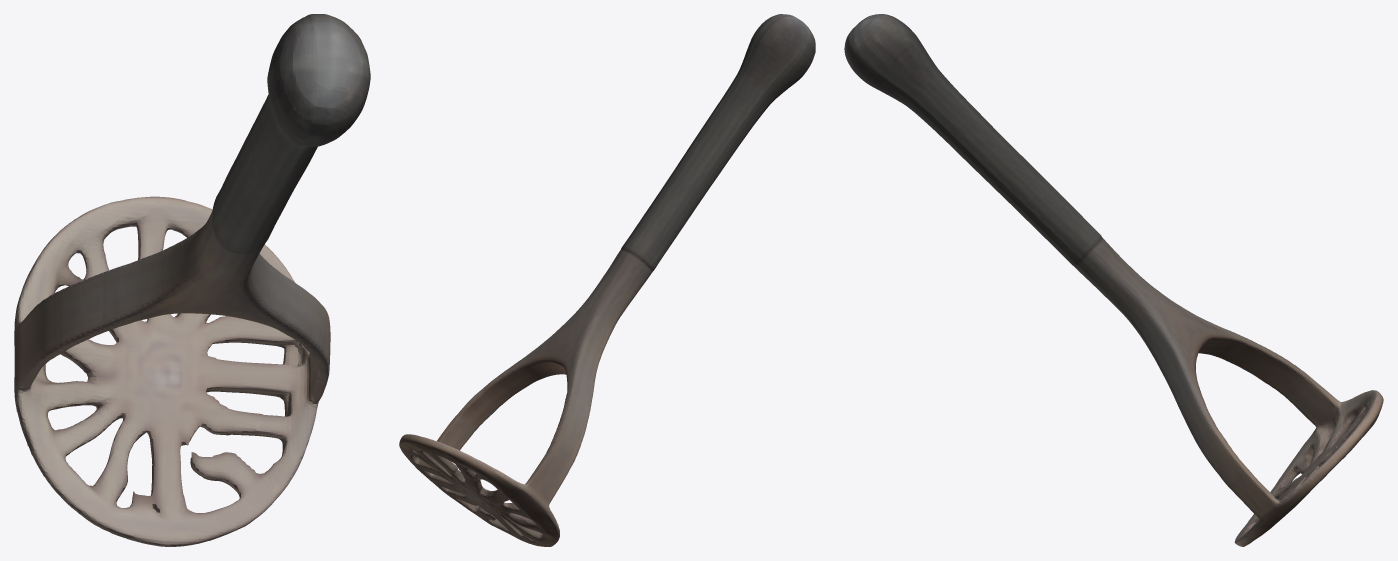
Rendered from frame_0049_source_000049_object.glb.
3 renders of one model, left to right at view 1: azimuth 30°, elevation 25°; view 2: azimuth 150°, elevation 25°; view 3: azimuth 270°, elevation 25°, orthographic. The views are drawn at different scales.
Visible parts, largest first — view 1: world; view 2: world; view 3: world.
Boxes of the visible parts, <box> form: world: <box>14,14,370,546</box>; world: <box>399,14,815,546</box>; world: <box>844,14,1383,546</box>.
Bounding box in the file's own units: 0.1038 × 0.2033 × 0.2113.
